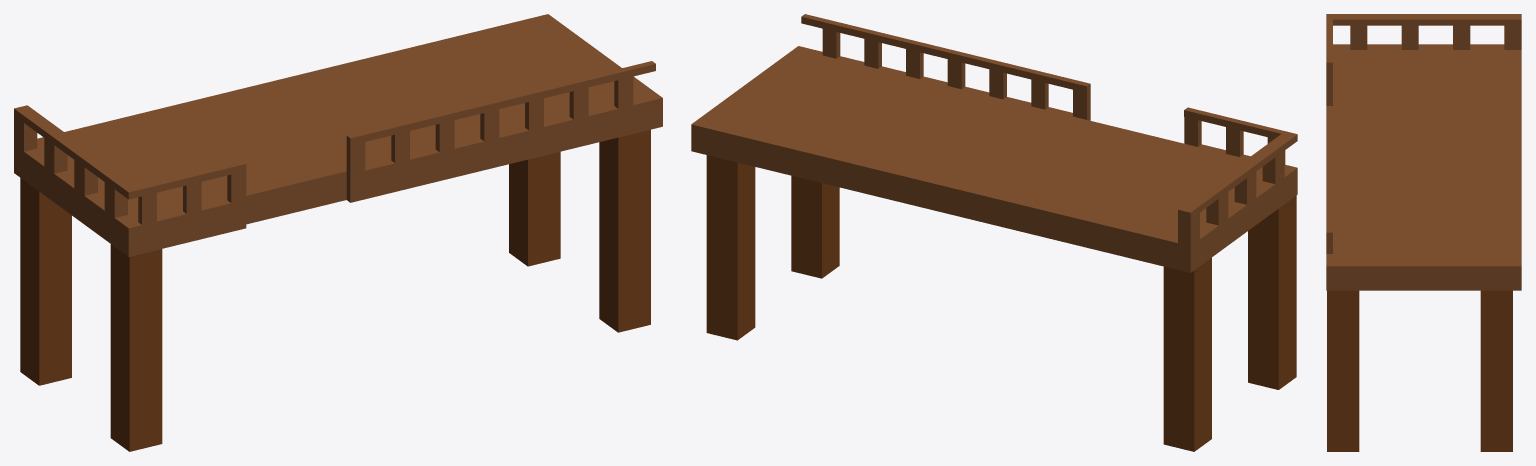
Rendered from M_EtageChambre2.fbx.
3 renders of one model, left to right at view 1: azimuth 30°, elevation 25°; view 2: azimuth 150°, elevation 25°; view 3: azimuth 270°, elevation 25°, orthographic. The views are drawn at different scales.
Parts seen in each view (by area): view 1: Cube.004; view 2: Cube.004; view 3: Cube.004.
Boxes of the visible parts, bbox=[...] form: Cube.004: bbox=[14, 14, 662, 451]; Cube.004: bbox=[691, 14, 1297, 451]; Cube.004: bbox=[1326, 14, 1521, 451].
Size of the model in its own units: 1949 by 906 by 725.
